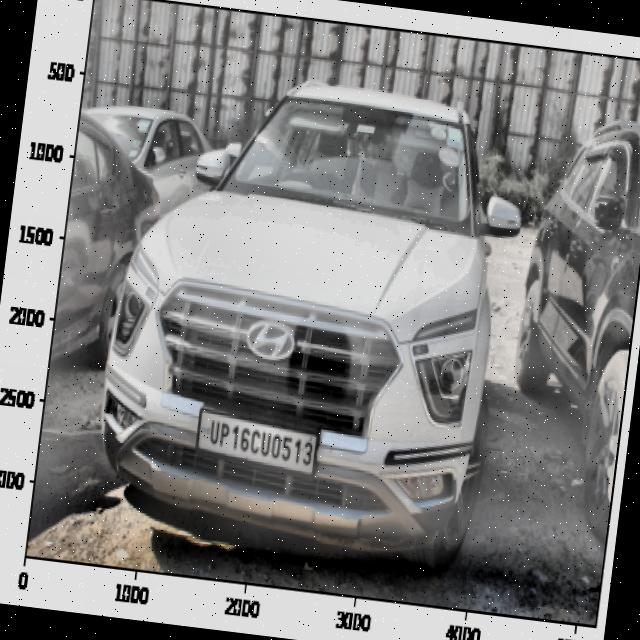license_plate: (204, 412, 319, 474)
